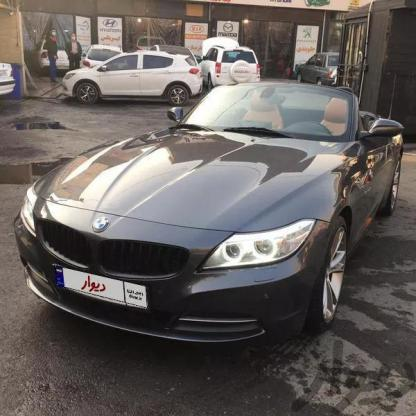Car: (40, 80, 408, 336), (72, 50, 205, 102), (191, 42, 265, 90), (299, 50, 346, 86)
